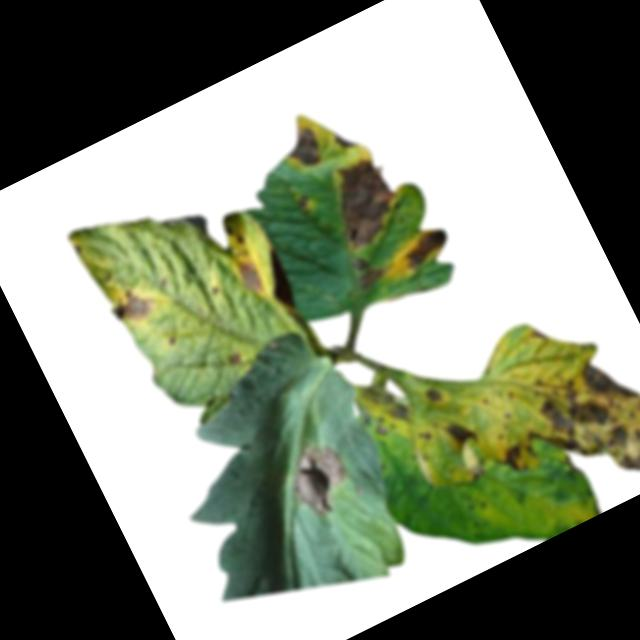Early_blight: (501, 339, 640, 524), (316, 149, 411, 254), (275, 430, 366, 528), (357, 373, 419, 440), (397, 222, 459, 275), (277, 121, 329, 179), (106, 280, 163, 331), (232, 252, 271, 300), (347, 247, 388, 291), (442, 410, 483, 454), (493, 439, 531, 480), (331, 124, 362, 155), (464, 458, 490, 485), (223, 220, 248, 248), (422, 383, 447, 411), (294, 191, 319, 217), (417, 427, 438, 448), (226, 349, 247, 369)
